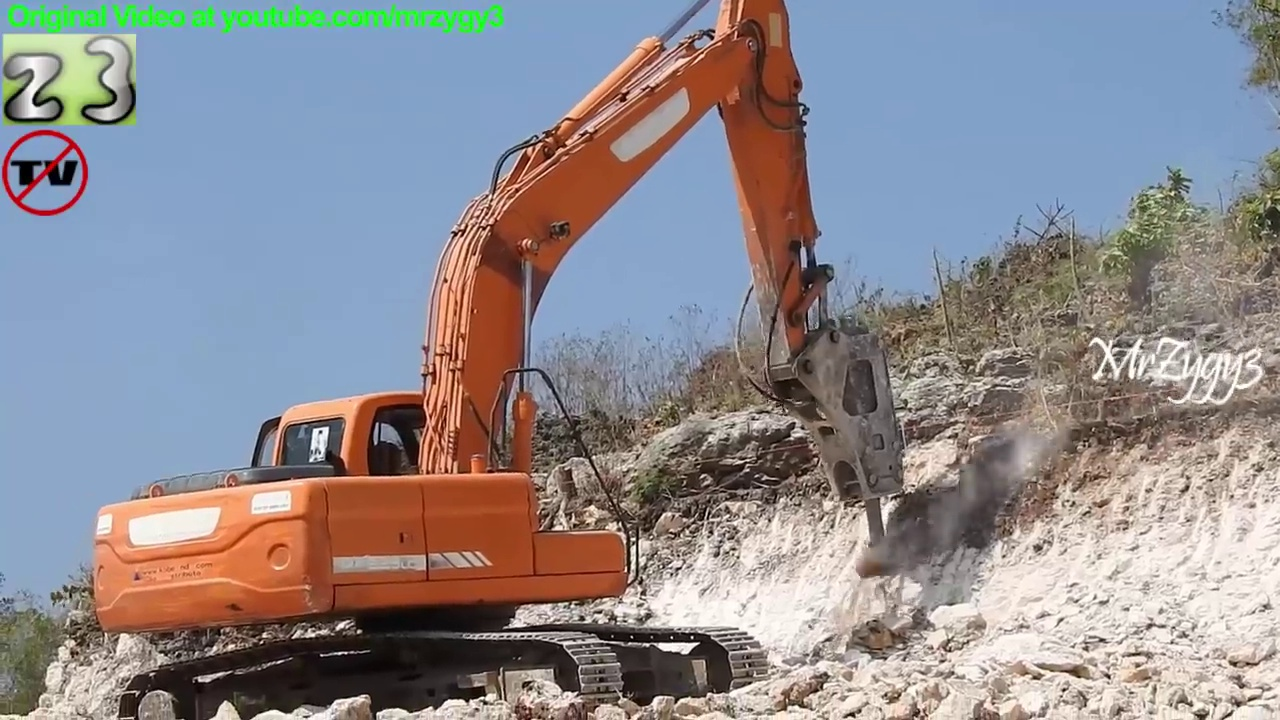excavator breaker: (85, 1, 915, 720)
